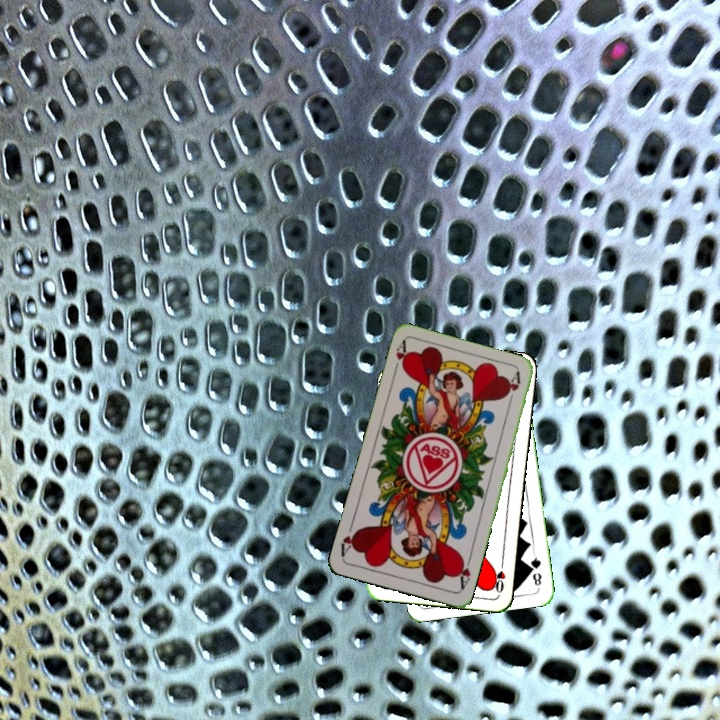G8: (527, 550, 544, 588)
HA: (389, 337, 411, 377), (453, 552, 474, 593)
HO: (490, 555, 508, 595)
